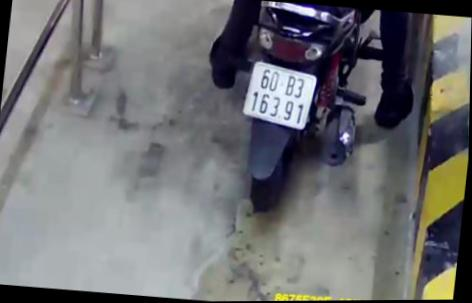LP: (238, 54, 326, 136)
